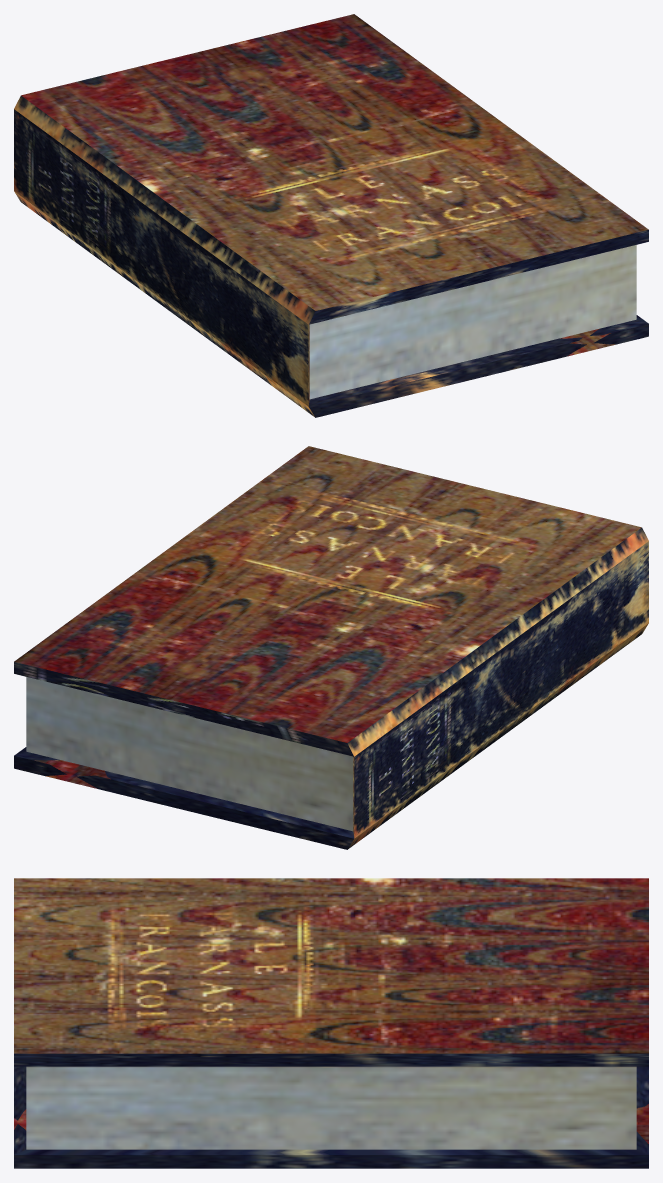
The model's file is book1.fbx.
3 renders of one model, top to bottom at view 1: azimuth 30°, elevation 25°; view 2: azimuth 150°, elevation 25°; view 3: azimuth 270°, elevation 25°, orthographic. The views are drawn at different scales.
Visible parts, largest first — view 1: Book1; view 2: Book1; view 3: Book1.
Part boxes in pixels (left/top/right/bottom): Book1: left=14, top=14, right=648, bottom=417; Book1: left=14, top=446, right=648, bottom=849; Book1: left=14, top=878, right=648, bottom=1168.
Bounding box in the file's own units: 20 × 6 × 30.
Materials: 1 (1 with a texture image).
